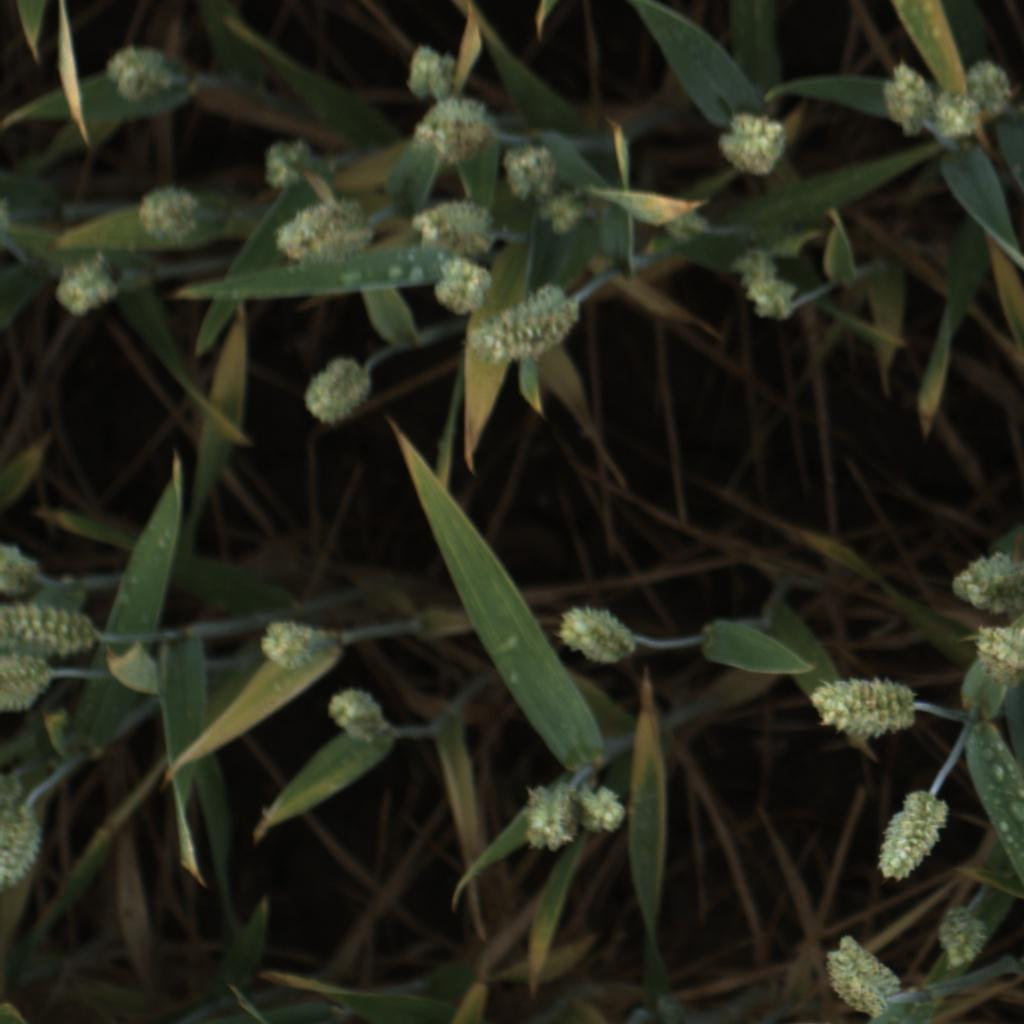0-0: (464, 281, 579, 363), (871, 782, 952, 883), (806, 671, 921, 741), (818, 928, 901, 1016), (275, 194, 368, 267), (404, 99, 500, 166), (298, 353, 376, 430), (728, 248, 804, 324), (555, 601, 635, 669), (2, 603, 100, 658), (947, 547, 1024, 615), (47, 252, 121, 319), (101, 45, 180, 106), (723, 111, 791, 180), (134, 176, 202, 244), (414, 200, 497, 255), (875, 63, 934, 140), (253, 611, 327, 672), (326, 685, 396, 745), (519, 782, 578, 851), (257, 130, 318, 193), (404, 36, 462, 102), (500, 142, 561, 204), (935, 904, 991, 971), (967, 622, 1024, 687), (429, 257, 491, 316), (962, 55, 1017, 116), (2, 809, 42, 891), (927, 87, 979, 146), (578, 782, 629, 837), (536, 188, 592, 237), (1, 660, 51, 709), (0, 542, 44, 594)
